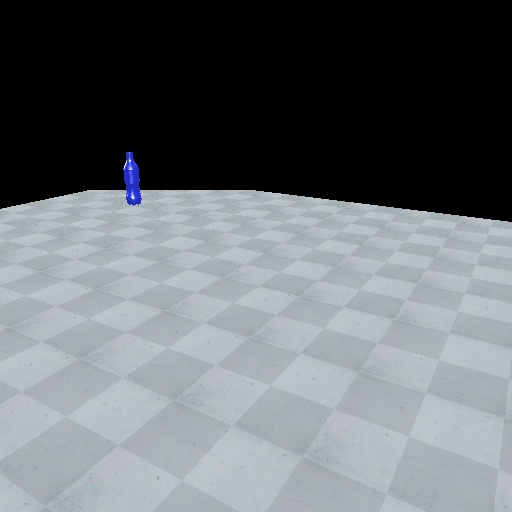bottle: (118, 149, 144, 208)
